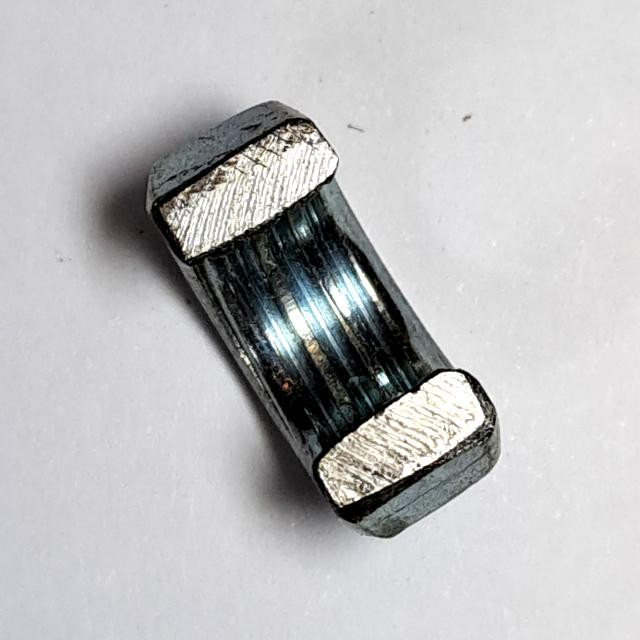Side-Fracture: (128, 74, 520, 556)
